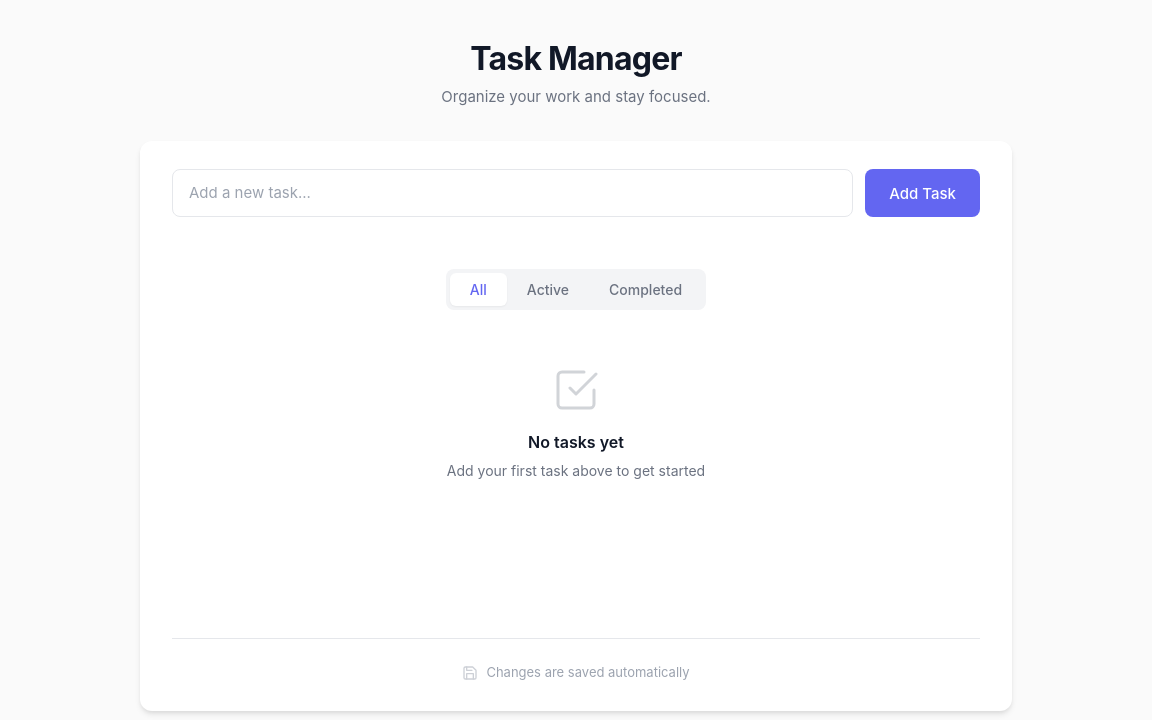
App integration tests › handles full task lifecycle: add, toggle, edit, delete
Step 1. Type "Task 1" into the field → x=513, y=193, box [172,169,853,217]
Then press Enter
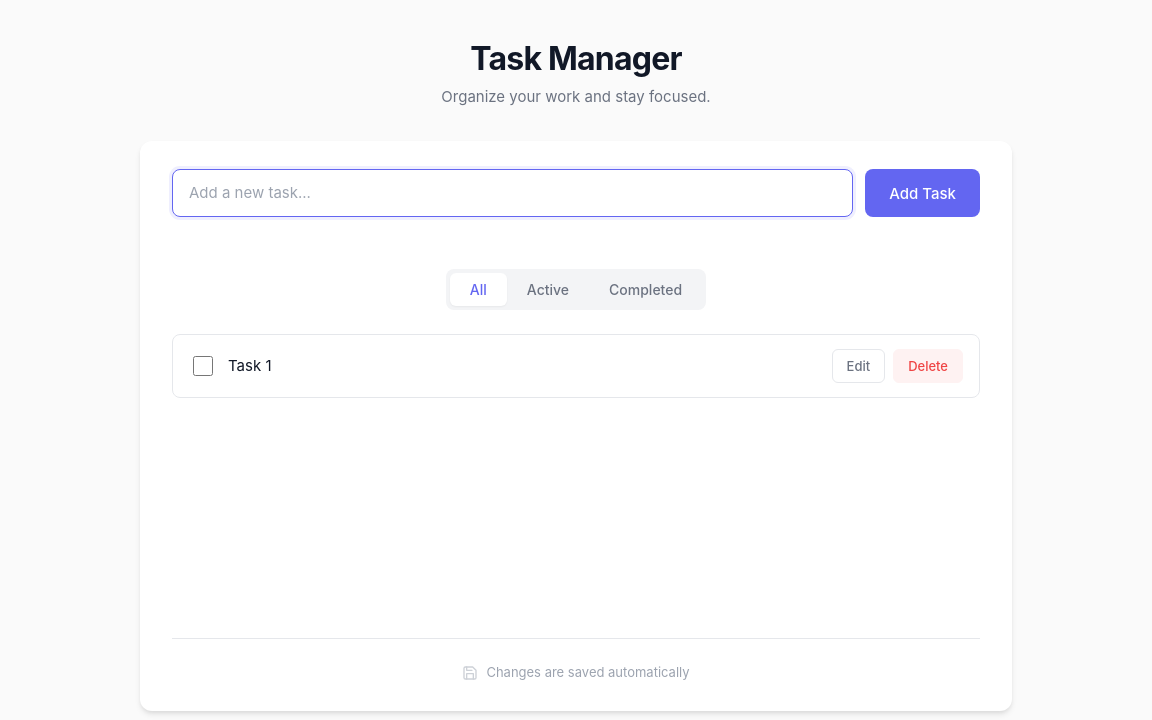
Step 2. Type "Task 2" into the field → x=513, y=193, box [172,169,853,217]
Then press Enter
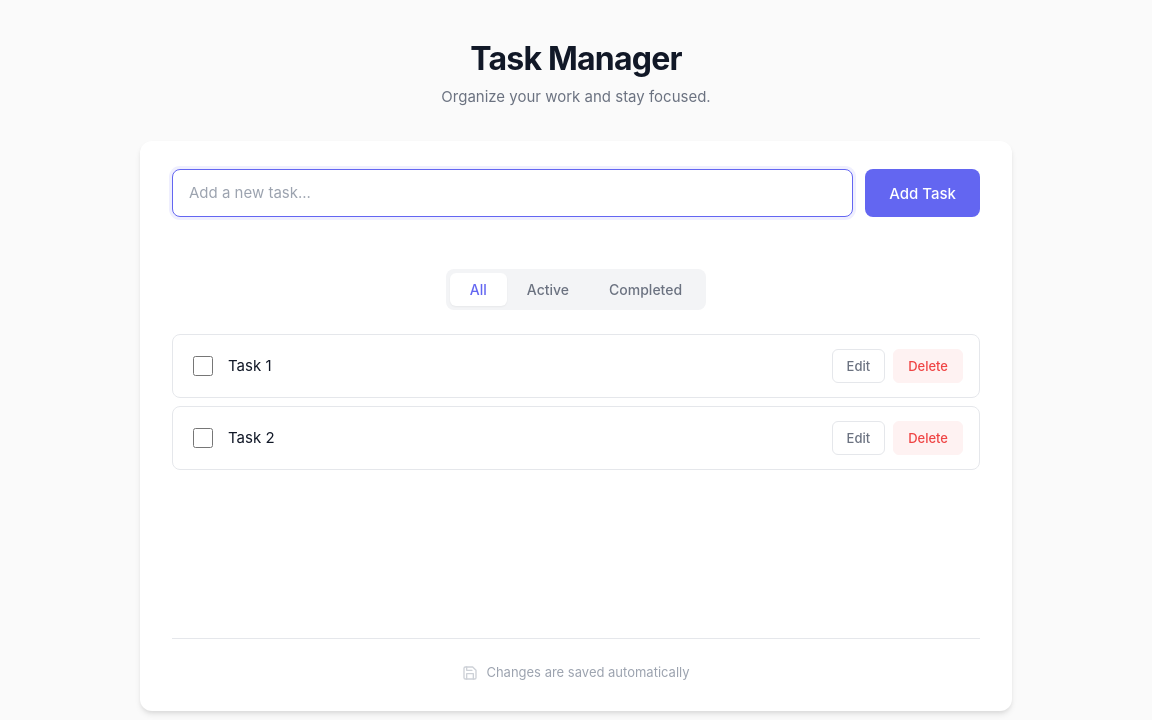
Check: the text "Task 1" is shown, box [228,356,272,375]
Check: the text "Task 2" is shown, box [228,428,274,447]
Step 3. Click the checkbox named "Toggle Task 1" → x=203, y=366, box [193,356,213,376]
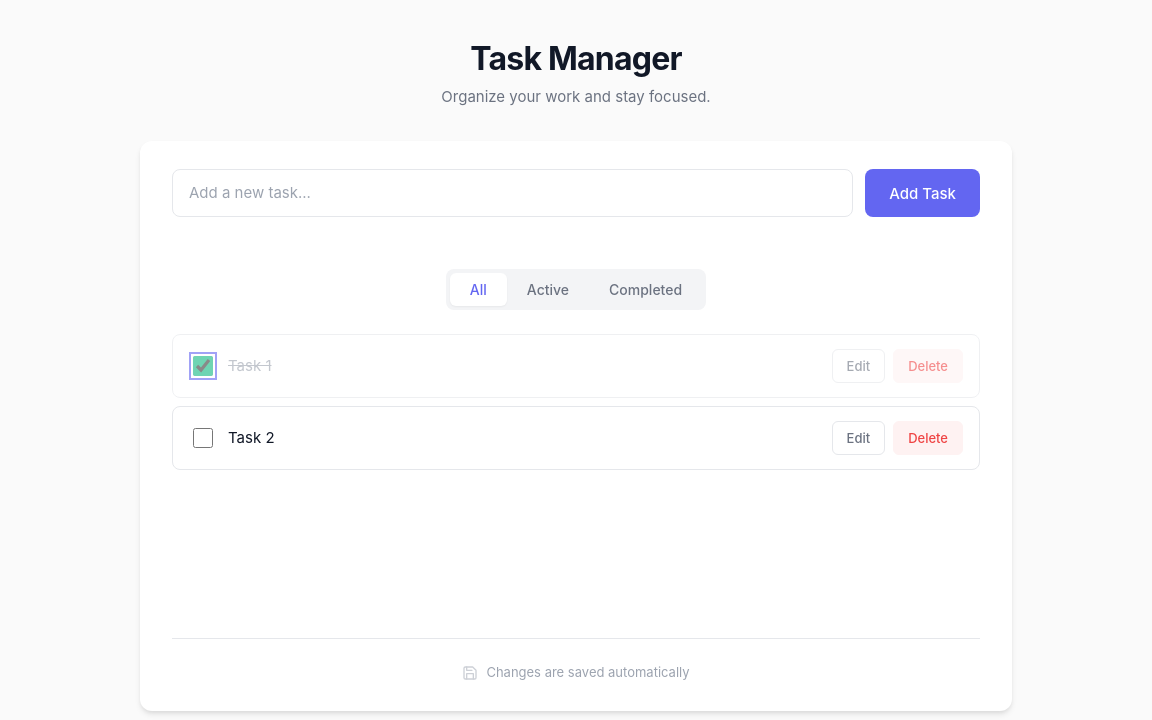
Check: the text "Task 1" has class "completed", box [228,356,272,375]
Check: the checkbox named "Toggle Task 1" is checked, box [193,356,213,376]
Step 4. Click the button "Edit" in the row of "Task 1" → x=858, y=366, box [832,349,885,383]
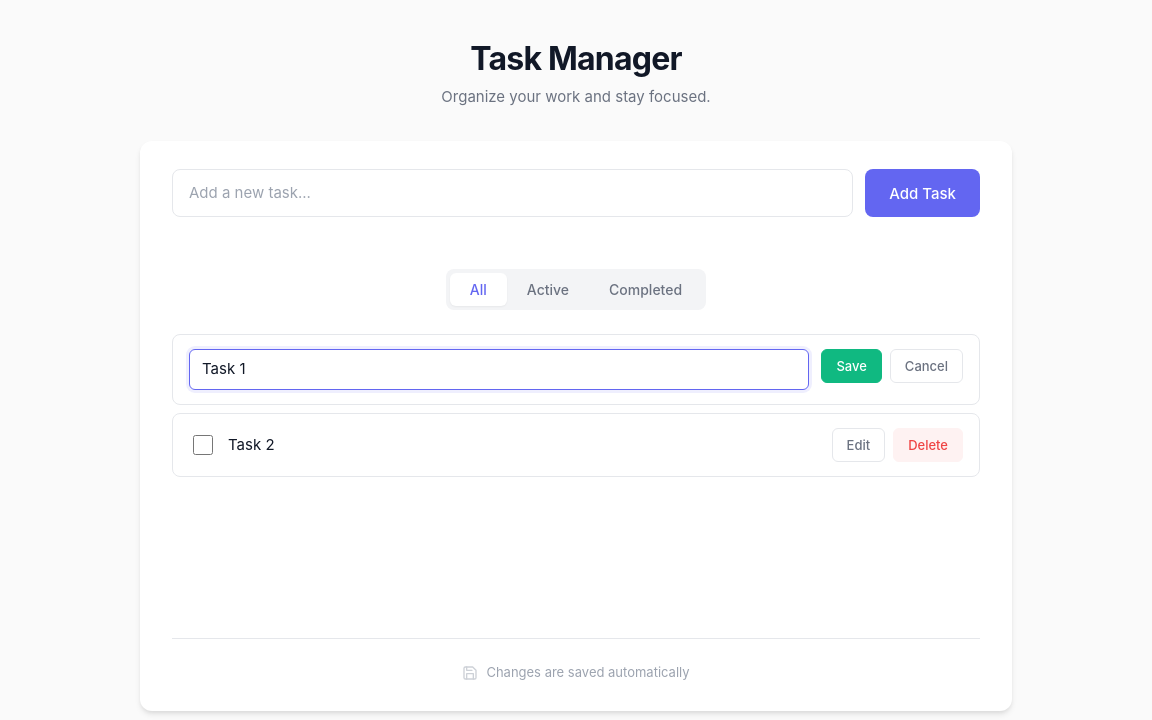
Step 5. Replace the text in the 2nd field with "Updated Task 1" → x=499, y=370, box [189,349,809,390]
Step 6. Click the button "Save" → x=852, y=366, box [821,349,882,383]
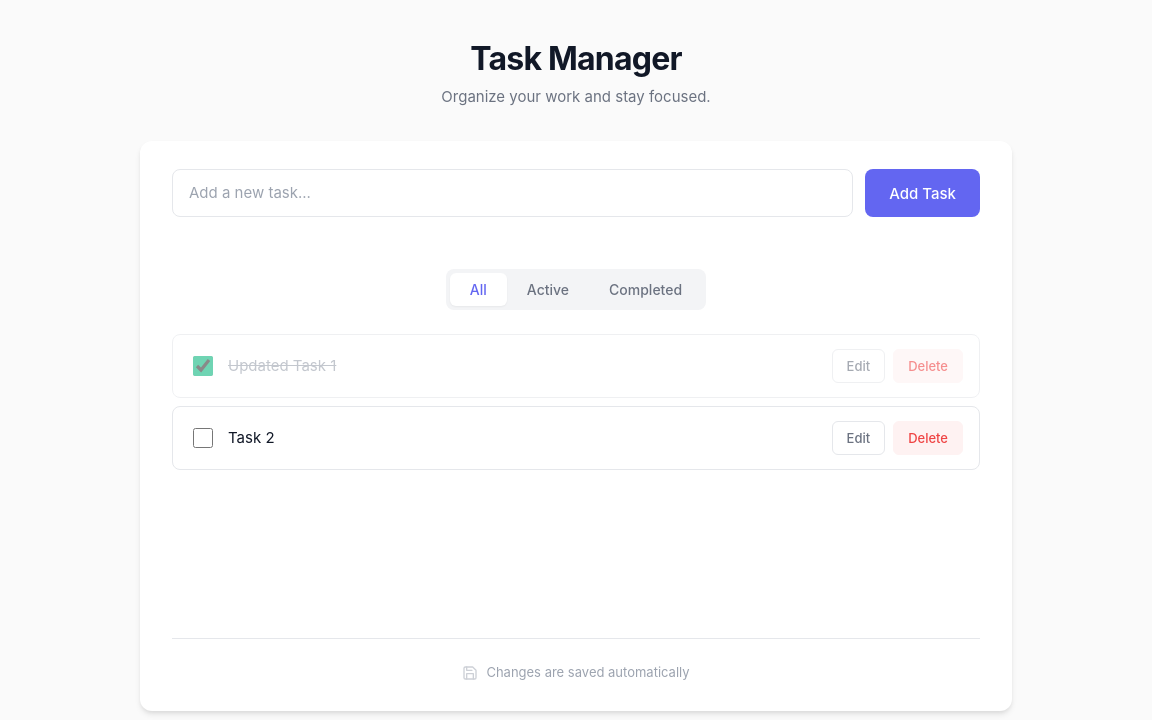
Check: the text "Updated Task 1" is shown, box [228,356,336,375]
Step 7. Click the button "Delete" in the row of "Task 2" → x=928, y=438, box [893,421,963,455]
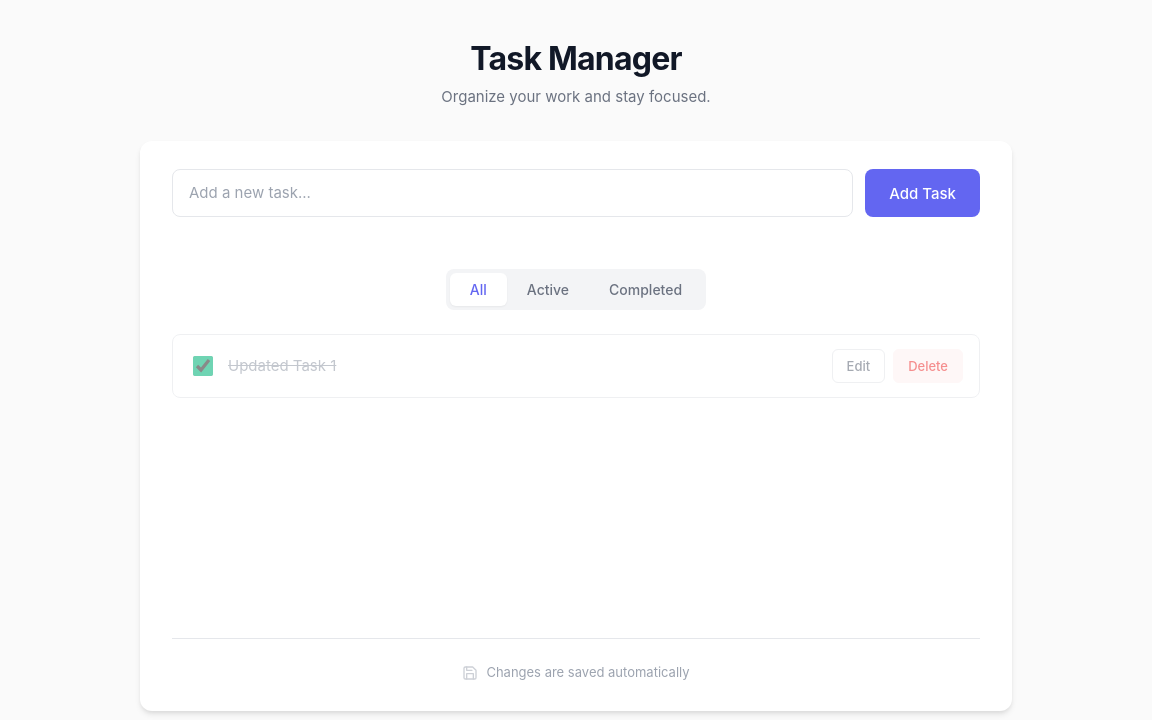
Check: the text "Task 2" is gone
